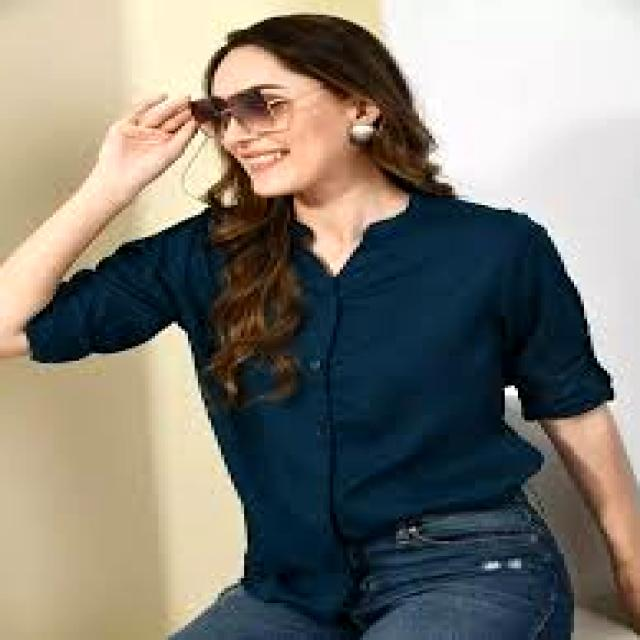face: (212, 45, 379, 197)
lower-wear: (172, 492, 574, 639)
top-wear: (27, 188, 613, 620)
